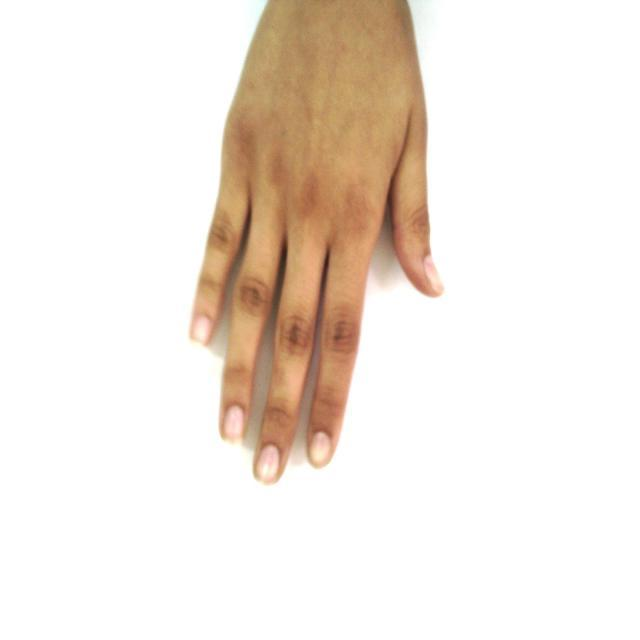Fingernail: (256, 445, 279, 482), (224, 405, 244, 443), (425, 254, 444, 292), (310, 432, 330, 466), (192, 317, 211, 343)
